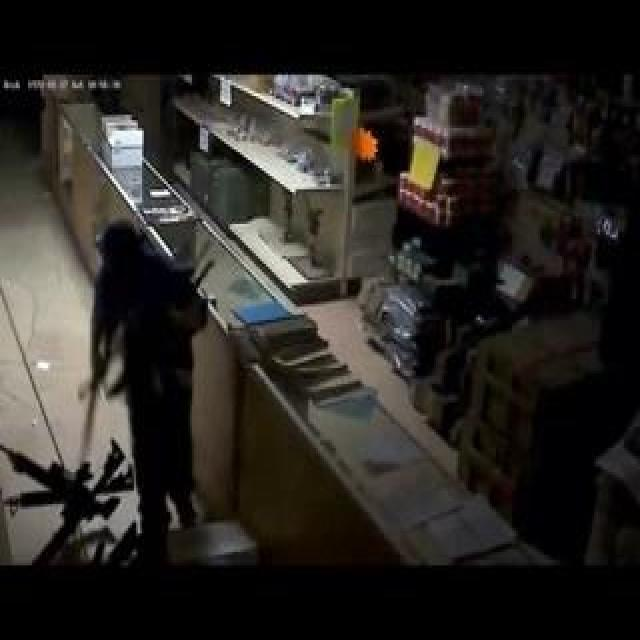thief: (60, 234, 213, 457)
